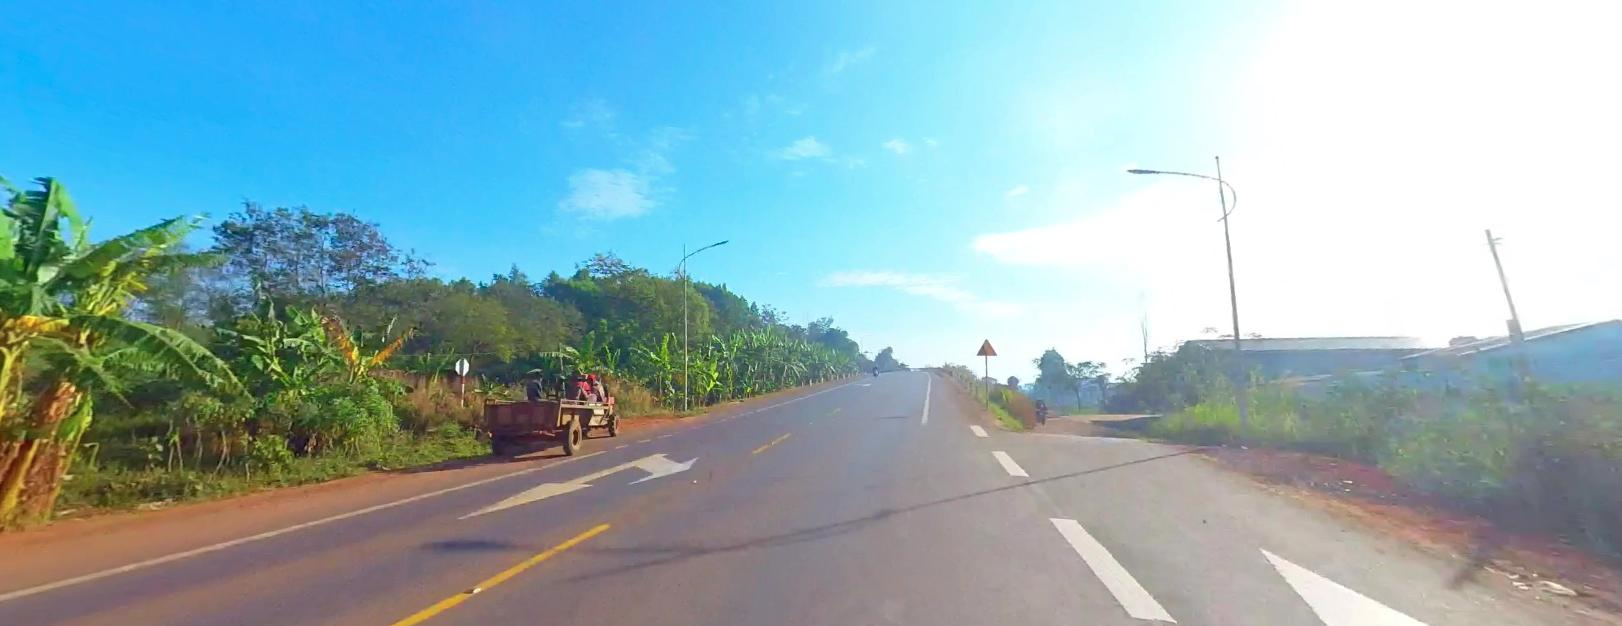Nguy hiem: (975, 337, 997, 354)
